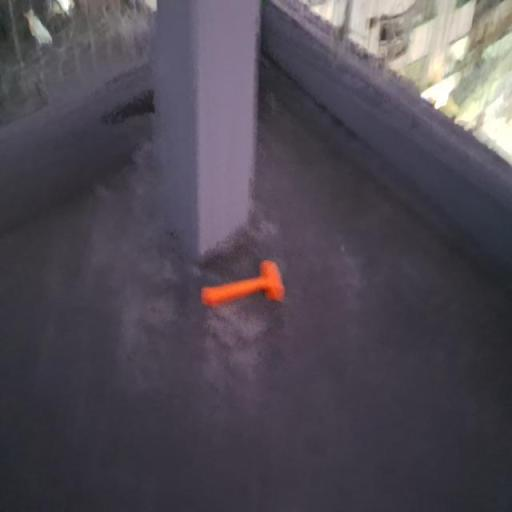mallet: (201, 259, 285, 309)
